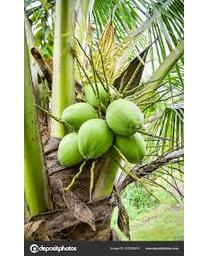coconut: (78, 117, 115, 159), (106, 98, 145, 137), (113, 128, 146, 165), (62, 101, 101, 132), (57, 133, 91, 168)
